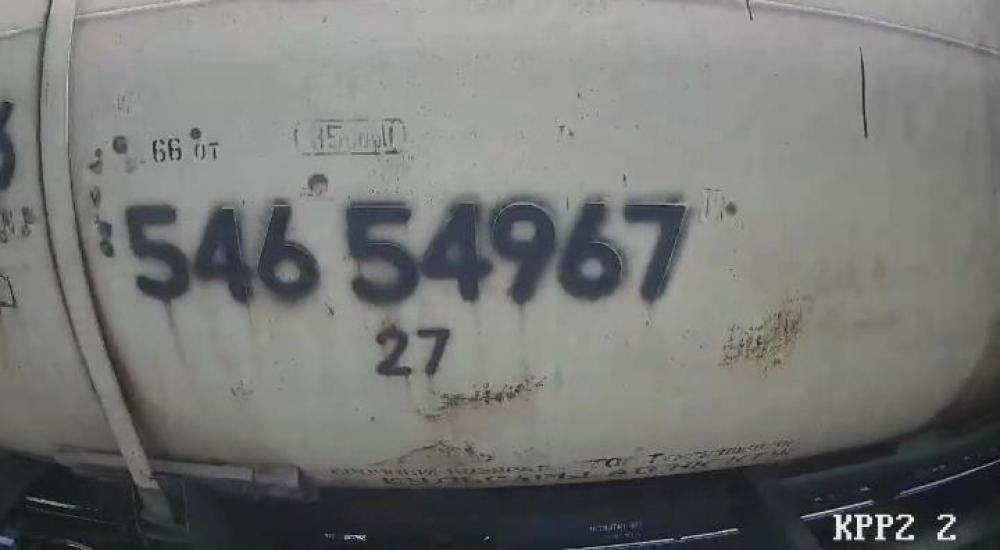Wagon-number: (120, 192, 695, 310)
